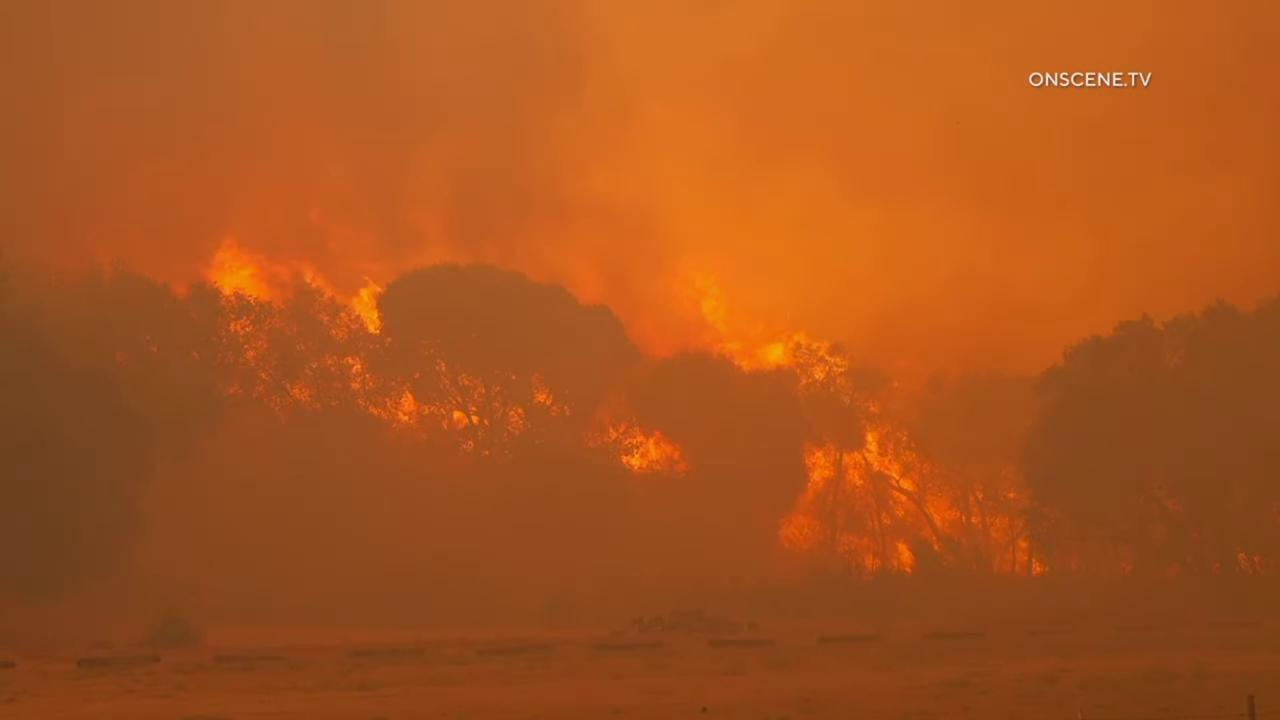fire: (171, 233, 493, 457), (770, 416, 1052, 579), (693, 278, 854, 384), (585, 410, 691, 481), (529, 372, 579, 417), (501, 401, 527, 439)
smoke: (0, 0, 1280, 588)
